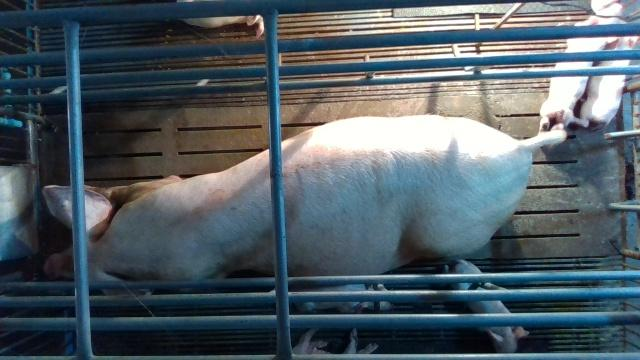piglet: (539, 15, 626, 130), (445, 258, 529, 352), (572, 37, 640, 128), (176, 0, 265, 38), (297, 283, 393, 314), (292, 328, 379, 355)
sow-sit: (41, 115, 567, 297)
